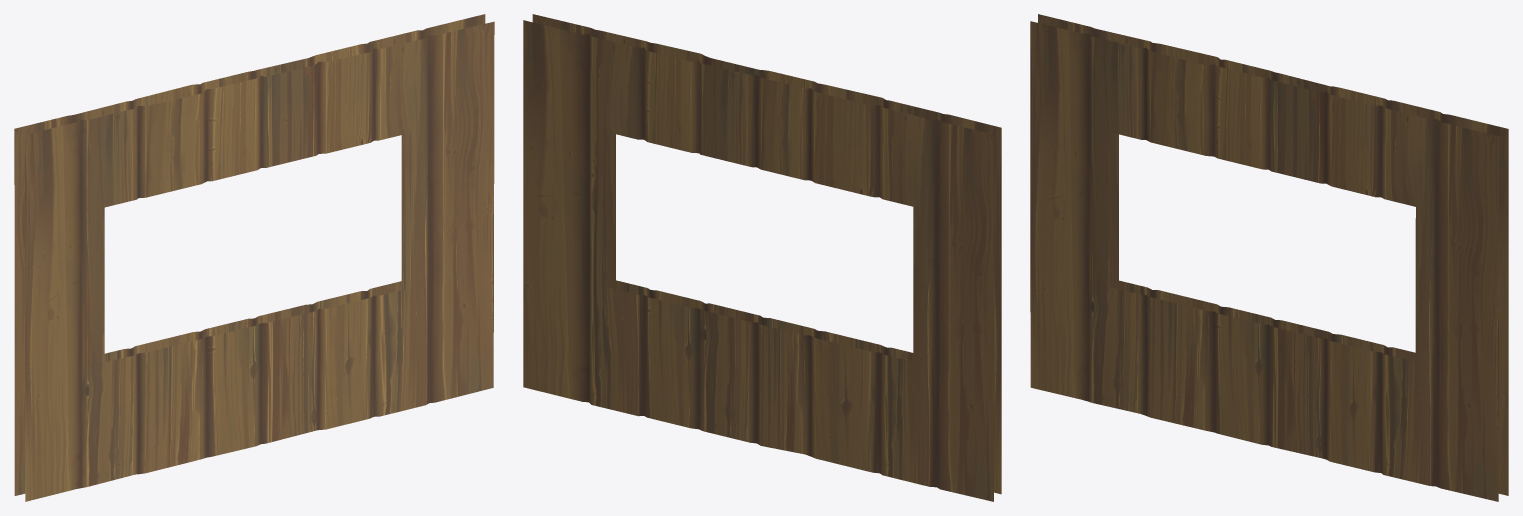
File: SM_MOD_wall_doublewindow_planks_vert_town.fbx
3 renders of one model, left to right at view 1: azimuth 30°, elevation 25°; view 2: azimuth 150°, elevation 25°; view 3: azimuth 330°, elevation 25°, orthographic.
Parts seen in each view (by area): view 1: SM_MOD_wall_doublewindow_planks_vert_town; view 2: SM_MOD_wall_doublewindow_planks_vert_town; view 3: SM_MOD_wall_doublewindow_planks_vert_town.
Boxes of the visible parts, <box> form: SM_MOD_wall_doublewindow_planks_vert_town: <box>14,14,494,501</box>; SM_MOD_wall_doublewindow_planks_vert_town: <box>523,14,1001,501</box>; SM_MOD_wall_doublewindow_planks_vert_town: <box>1030,14,1508,501</box>.
Bounding box in the file's own units: 378 × 283 × 15.12.
